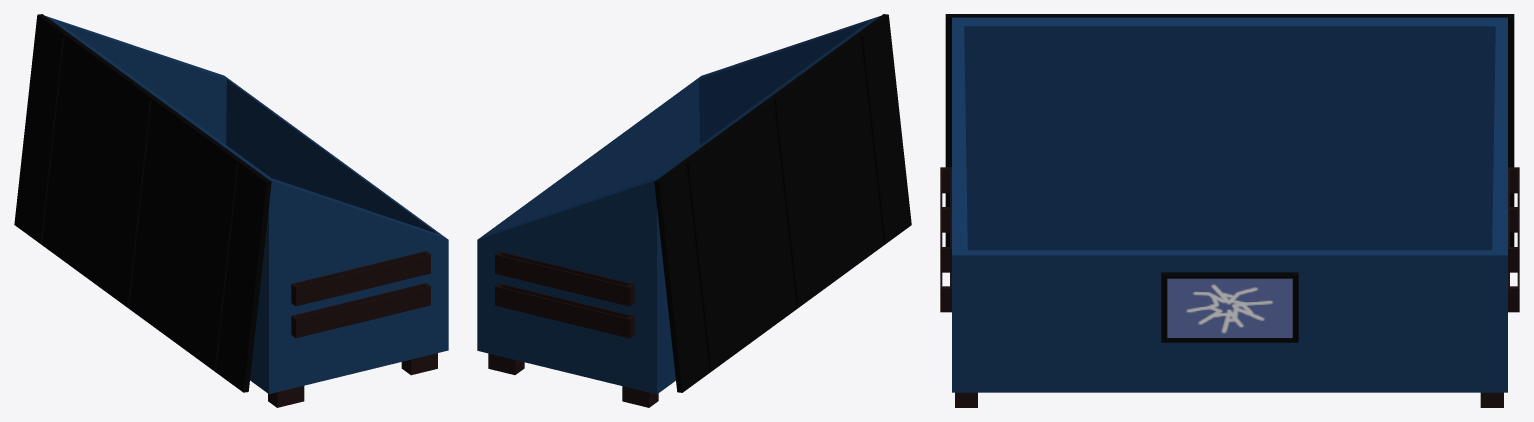
Rendered from Glass Dumpster.fbx.
The picture shows the model from 3 angles, left to right: view 1: azimuth 30°, elevation 25°; view 2: azimuth 150°, elevation 25°; view 3: azimuth 270°, elevation 25°; orthographic projection. The views are drawn at different scales.
Parts seen in each view (by area): view 1: Cube, Dumpster_Body, Dumpster_Handles_Left2, Dumpster_Handles_Left1, Dumpster_Legs_Left1, Dumpster_Legs_Left2; view 2: Cube, Dumpster_Body, Dumpster_Handles_Right1, Dumpster_Handles_Right2, Dumpster_Legs_Right2, Dumpster_Legs_Right1; view 3: Dumpster_Body, Dumpster_Sign, Cube, Dumpster_Handles_Left2, Dumpster_Handles_Right1, Dumpster_Handles_Left1, Dumpster_Handles_Right2.
Part boxes in pixels (bbox=[...]): Cube: bbox=[14, 14, 271, 392]; Dumpster_Body: bbox=[45, 16, 448, 394]; Dumpster_Handles_Left2: bbox=[291, 251, 430, 306]; Dumpster_Handles_Left1: bbox=[291, 283, 430, 338]; Dumpster_Legs_Left1: bbox=[268, 386, 304, 407]; Dumpster_Legs_Left2: bbox=[401, 353, 437, 375]; Cube: bbox=[654, 14, 911, 392]; Dumpster_Body: bbox=[477, 16, 880, 394]; Dumpster_Handles_Right1: bbox=[495, 251, 634, 306]; Dumpster_Handles_Right2: bbox=[495, 283, 634, 338]; Dumpster_Legs_Right2: bbox=[622, 386, 658, 407]; Dumpster_Legs_Right1: bbox=[488, 353, 524, 374]; Dumpster_Body: bbox=[952, 17, 1507, 392]; Dumpster_Sign: bbox=[1161, 272, 1298, 342]; Cube: bbox=[945, 14, 1514, 246]; Dumpster_Handles_Left2: bbox=[940, 167, 951, 272]; Dumpster_Handles_Right1: bbox=[1508, 167, 1519, 272]; Dumpster_Handles_Left1: bbox=[940, 207, 951, 312]; Dumpster_Handles_Right2: bbox=[1508, 207, 1519, 312].
Size of the model in its own units: 237 by 247 by 450.
